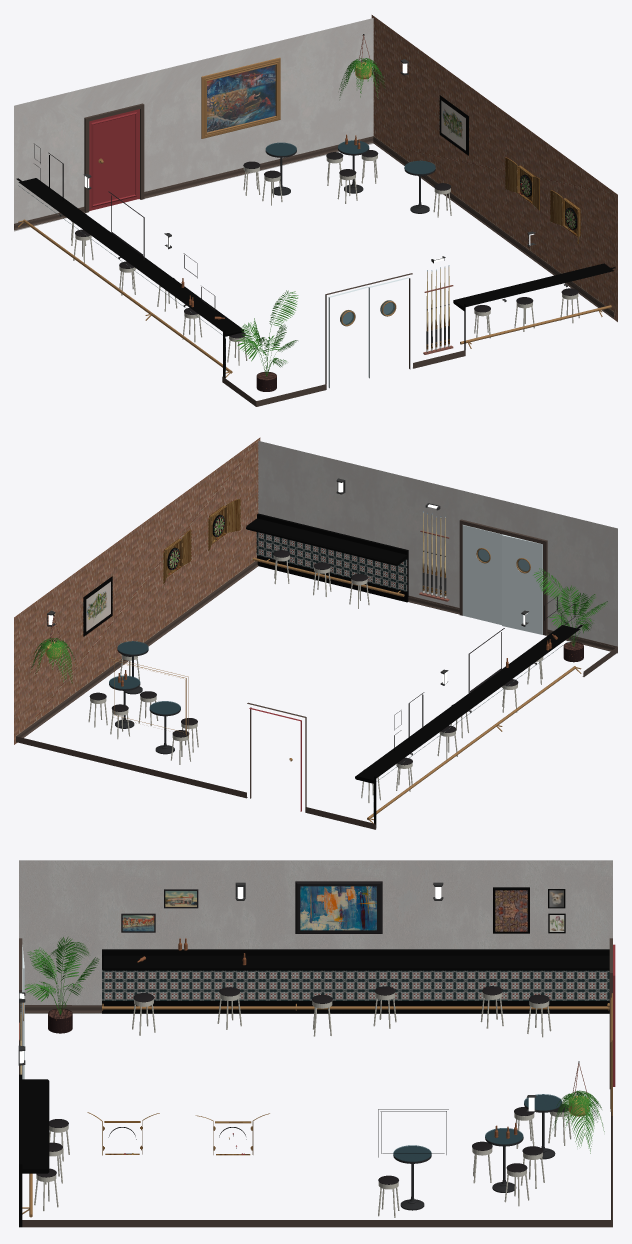
The model's file is room_pbr.glb.
3 views of the same model, one above another, from view 1: azimuth 30°, elevation 25°; view 2: azimuth 150°, elevation 25°; view 3: azimuth 270°, elevation 25° (orthographic). The views are drawn at different scales.
Visible parts, largest first — view 1: Cube.003, Plane.003, Cube.009, Plane.011, frame, Cube.007, frame.001, Areca palm.001, Cube.006, Cube.026, Cube.013, Plane.012 (+6 smaller); view 2: Cube.001, Plane.003, frame.001, frame, Plane.002, Plane.001, Plane.023, Cube.026, Areca palm.001, Cube.013, Plane.004, metal_bar (+3 smaller); view 3: Plane, frame, Plane.014, Cube.026, Plane.033, frame.001, Areca palm.001, metal_bar, Areca palm.003, Cube.018, Cube.024, Areca palm (+5 smaller).
Part boxes in pixels (left/top/right/bottom): Cube.003: left=14, top=18, right=373, bottom=231; Plane.003: left=371, top=15, right=617, bottom=321; Cube.009: left=14, top=20, right=373, bottom=223; Plane.011: left=89, top=109, right=139, bottom=210; frame: left=16, top=178, right=243, bottom=378; Cube.007: left=207, top=64, right=275, bottom=132; frame.001: left=453, top=263, right=615, bottom=350; Areca palm.001: left=235, top=290, right=298, bottom=376; Cube.006: left=201, top=57, right=280, bottom=138; Cube.026: left=373, top=136, right=614, bottom=318; Cube.013: left=144, top=136, right=373, bottom=198; Plane.012: left=84, top=103, right=144, bottom=212; Cube.001: left=258, top=441, right=617, bottom=653; Plane.003: left=14, top=437, right=260, bottom=744; frame.001: left=246, top=513, right=408, bottom=602; frame: left=355, top=625, right=582, bottom=827; Plane.002: left=502, top=534, right=542, bottom=634; Plane.001: left=462, top=525, right=502, bottom=624; Plane.023: left=256, top=532, right=407, bottom=591; Cube.026: left=16, top=561, right=258, bottom=737; Areca palm.001: left=533, top=568, right=607, bottom=646; Cube.013: left=16, top=736, right=247, bottom=798; Plane.004: left=459, top=519, right=547, bottom=635; metal_bar: left=367, top=666, right=581, bottom=823; Plane: left=19, top=860, right=612, bottom=1013; frame: left=102, top=949, right=609, bottom=1013; Plane.014: left=102, top=969, right=609, bottom=1000; Cube.026: left=22, top=1220, right=612, bottom=1227; Plane.033: left=300, top=886, right=376, bottom=930; frame.001: left=19, top=1074, right=49, bottom=1227; Areca palm.001: left=24, top=936, right=99, bottom=1014; metal_bar: left=102, top=1003, right=609, bottom=1010; Areca palm.003: left=552, top=1090, right=604, bottom=1153; Cube.018: left=295, top=881, right=382, bottom=933; Cube.024: left=495, top=890, right=527, bottom=931; Areca palm: left=48, top=1008, right=72, bottom=1033.
Bounding box in the file's own units: 8.33 × 2.83 × 9.88.
Materials: 34 (16 with a texture image).
